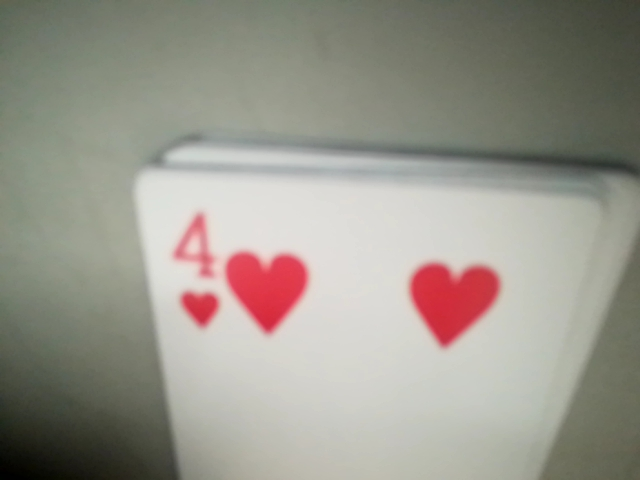hx 4: (158, 185, 232, 335)
